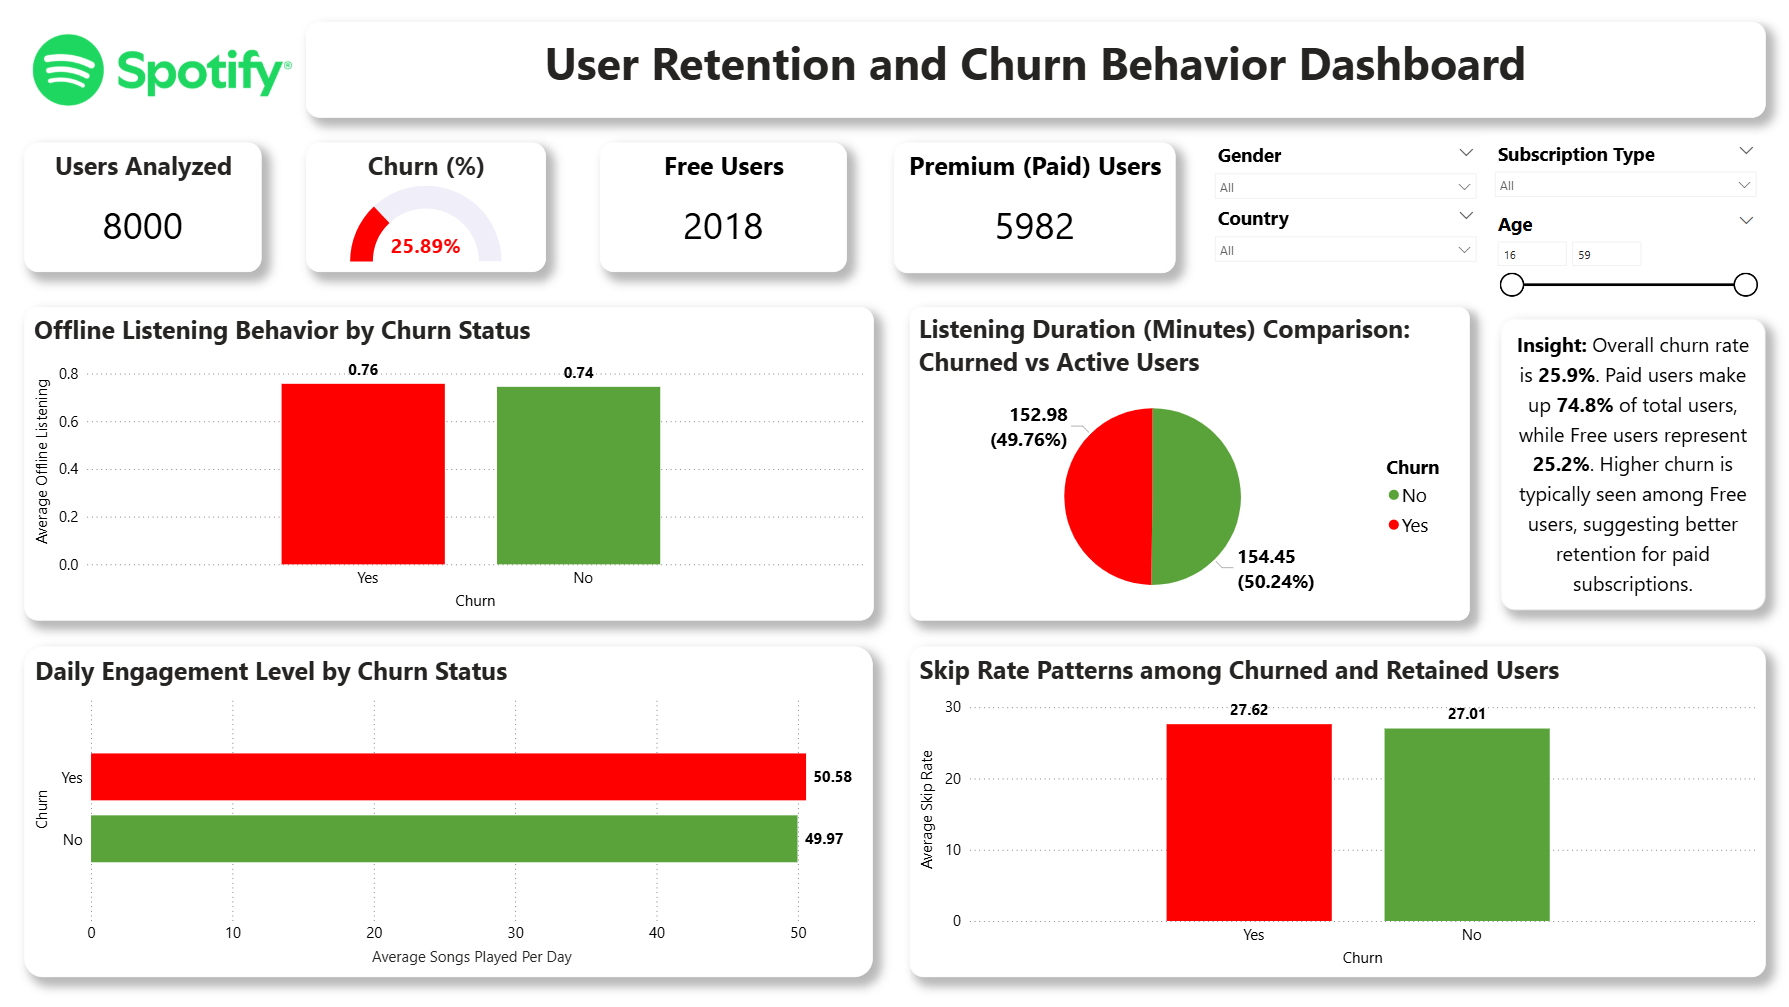

Layout of this report page (visuals, bound fields, positions):
{"tool":"powerbi","page":{"name":"Page 1","canvas":[1920,1080],"ordinal":0},"visuals":[{"type":"image","box":[28,30,296,92],"z":0},{"type":"textbox","box":[330,24.4,1563.8,103.1],"z":1000},{"type":"card","title":"Users Analyzed","fields":{"Values":["spotify_churn_clean.Users"]},"box":[28.6,154.3,254.3,138.6],"z":2000},{"type":"gauge","fields":{"Y":["spotify_churn_clean.Churn (%)"]},"box":[330,154.3,257.1,138.6],"z":3000},{"type":"card","title":"Free Users","fields":{"Values":["spotify_churn_clean.Free Users"]},"box":[644.3,154.3,264.3,138.6],"z":4000},{"type":"card","title":"Premium (Paid) Users","fields":{"Values":["spotify_churn_clean.Premium (Paid) Users"]},"box":[960,154.3,301.4,140],"z":5000},{"type":"slicer","fields":{"Values":["spotify_churn_clean.Subscription Type"]},"box":[1594,146,300,77],"z":6000},{"type":"slicer","fields":{"Values":["spotify_churn_clean.Age"]},"box":[1594,221,300,150],"z":7000},{"type":"slicer","fields":{"Values":["spotify_churn_clean.Country"]},"box":[1294,216,300,80],"z":8000},{"type":"pieChart","title":"Listening Duration (Minutes) Comparison: Churned vs Active Users","fields":{"Category":["spotify_churn_clean.Is Churned"],"Y":["Avg(spotify_churn_clean.Listening Time)"]},"box":[976,330,600,336],"z":9000},{"type":"clusteredBarChart","title":"Daily Engagement Level by Churn Status","fields":{"Category":["spotify_churn_clean.Is Churned"],"Y":["Avg(spotify_churn_clean.Songs Played Per Day)"]},"box":[28.1,693.8,909.4,354.4],"z":10000},{"type":"columnChart","title":"Skip Rate Patterns among Churned and Retained Users","fields":{"Category":["spotify_churn_clean.Is Churned"],"Y":["Avg(spotify_churn_clean.Skip Rate)"]},"box":[976.9,693.8,916.9,354.4],"z":11000},{"type":"clusteredColumnChart","title":"Offline Listening Behavior by Churn Status","fields":{"Y":["Avg(spotify_churn_clean.Offline Listening)"],"Category":["spotify_churn_clean.Is Churned"]},"box":[28,330,910,336],"z":12000},{"type":"slicer","fields":{"Values":["spotify_churn_clean.Gender"]},"box":[1294,149,300,74],"z":13000},{"type":"htmlContent443BE3AD55E043BF878BED274D3A6855","fields":{"content":["spotify_churn_clean.Dynamic Insight"]},"box":[1610.6,343.1,283.1,311.2],"z":14000}]}

Visuals, with their boxes in screenshot pixels (x1, y1, x2, y2), scaled from the page's 1920x1080 canvas onto the 1789x1007 screenshot:
image: box(26, 28, 302, 114)
textbox: box(307, 23, 1765, 119)
"Users Analyzed" card: box(27, 144, 264, 273)
gauge - spotify_churn_clean.Churn (%): box(307, 144, 547, 273)
"Free Users" card: box(600, 144, 847, 273)
"Premium (Paid) Users" card: box(894, 144, 1175, 274)
slicer - spotify_churn_clean.Subscription Type: box(1485, 136, 1765, 208)
slicer - spotify_churn_clean.Age: box(1485, 206, 1765, 346)
slicer - spotify_churn_clean.Country: box(1206, 201, 1485, 276)
"Listening Duration (Minutes) Comparison: Churned vs Active Users" pieChart: box(909, 308, 1468, 621)
"Daily Engagement Level by Churn Status" clusteredBarChart: box(26, 647, 874, 977)
"Skip Rate Patterns among Churned and Retained Users" columnChart: box(910, 647, 1765, 977)
"Offline Listening Behavior by Churn Status" clusteredColumnChart: box(26, 308, 874, 621)
slicer - spotify_churn_clean.Gender: box(1206, 139, 1485, 208)
htmlContent443BE3AD55E043BF878BED274D3A6855 - spotify_churn_clean.Dynamic Insight: box(1501, 320, 1764, 610)
